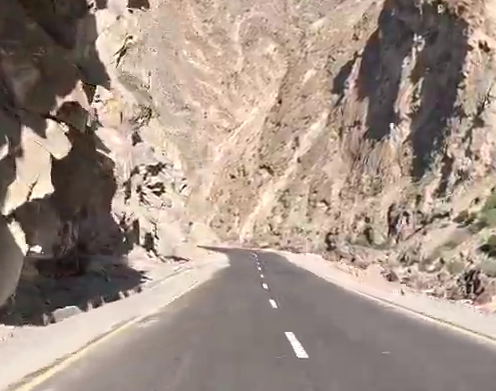right: (201, 223, 342, 299)
